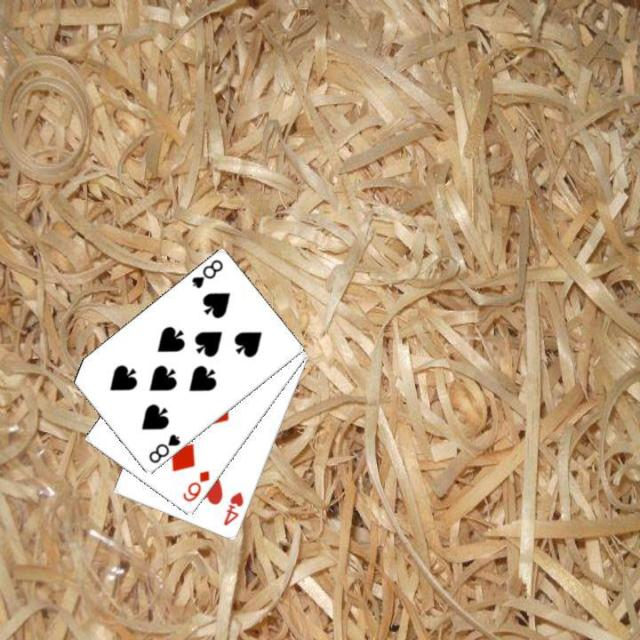4H: (220, 488, 246, 528)
6D: (178, 467, 212, 504)
8S: (145, 430, 182, 466), (187, 256, 225, 291)
